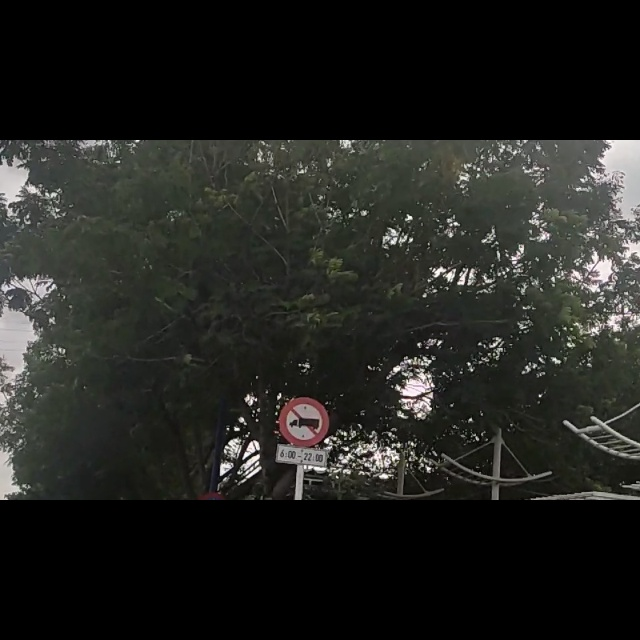bien_cam: (277, 459, 329, 578)
